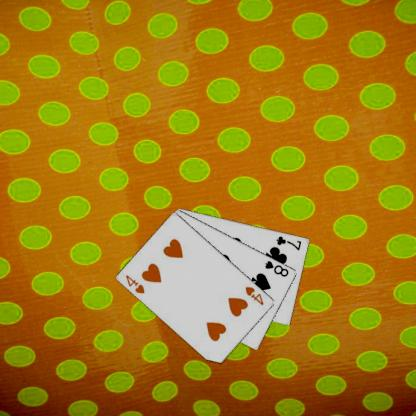4H: (243, 284, 266, 307), (123, 272, 146, 295)
7C: (274, 233, 302, 252)
8S: (262, 258, 290, 278)
